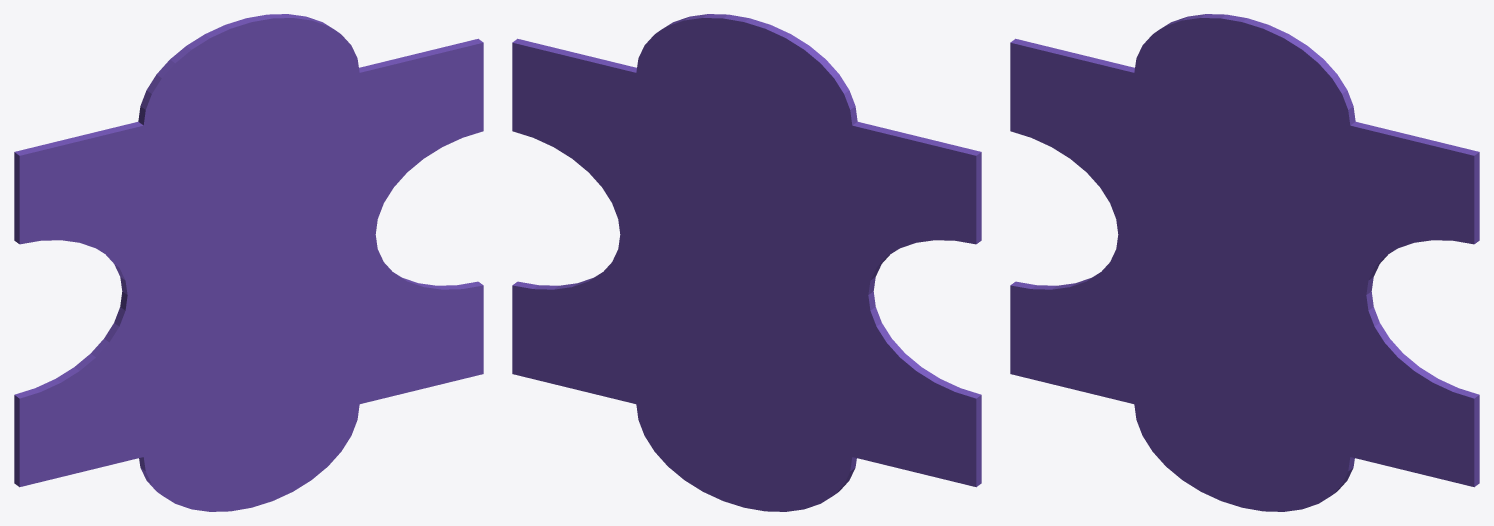
File: puzzle_piece.obj
3 renders of one model, left to right at view 1: azimuth 30°, elevation 25°; view 2: azimuth 150°, elevation 25°; view 3: azimuth 330°, elevation 25°, orthographic.
Visible parts, largest first — view 1: puzzle_piece_puzzle_piece; view 2: puzzle_piece_puzzle_piece; view 3: puzzle_piece_puzzle_piece.
Part boxes in pixels (left/top/right/bottom): puzzle_piece_puzzle_piece: left=14, top=14, right=483, bottom=511; puzzle_piece_puzzle_piece: left=512, top=14, right=981, bottom=511; puzzle_piece_puzzle_piece: left=1010, top=14, right=1479, bottom=511.
Size of the model in its own units: 0.25 by 0.25 by 0.005.
